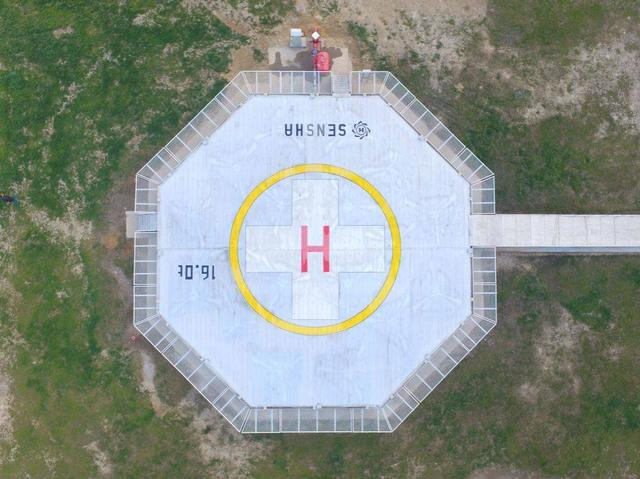H: (301, 225, 331, 274)
